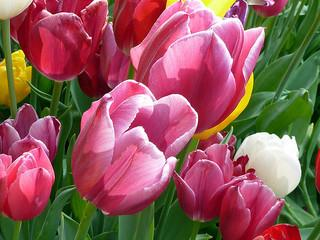tulip: (76, 80, 197, 216), (138, 4, 266, 132), (17, 1, 107, 83), (177, 142, 255, 220), (219, 175, 283, 240), (1, 147, 57, 220), (0, 104, 60, 159)
